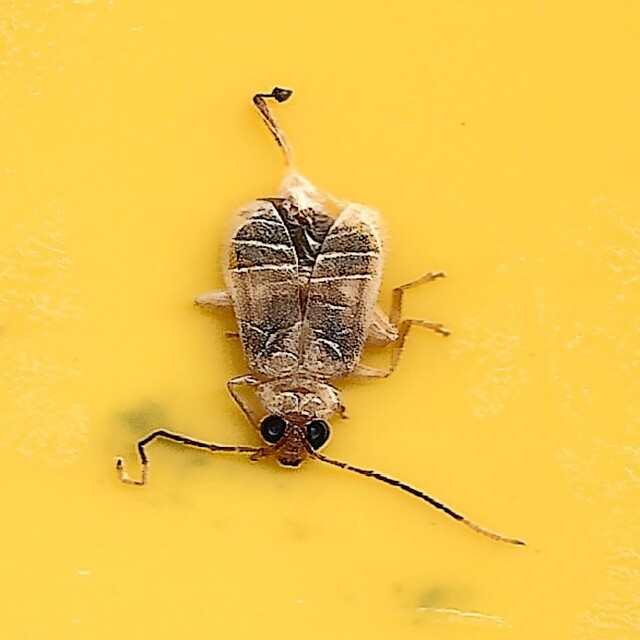Coleoptera: (109, 87, 531, 553)
